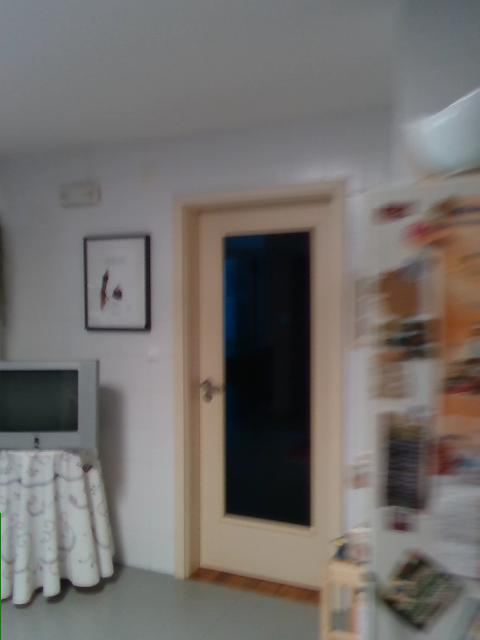door: (172, 178, 344, 594)
